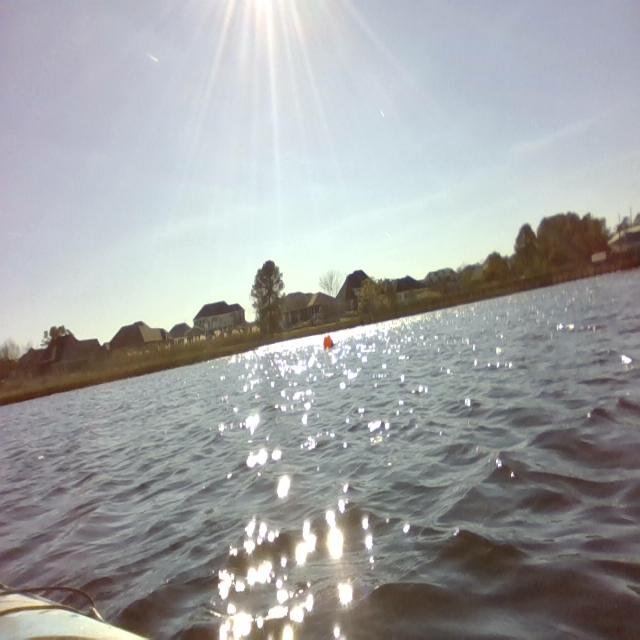Buoy: (314, 328, 342, 357)
